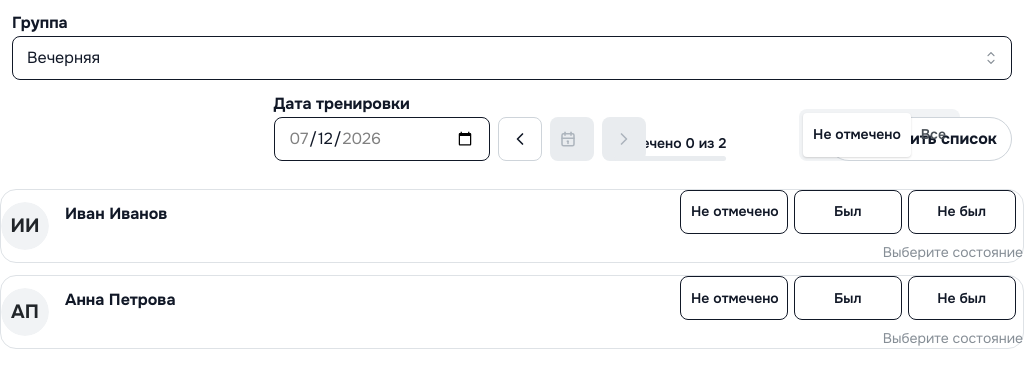
Test: AttendanceWorkspace › a failed row does not block saving another client
The image size is (1036, 390).
Click the radio button labelled "Был" in the row of "Иван Иванов": (848, 212) [794, 190, 902, 234]
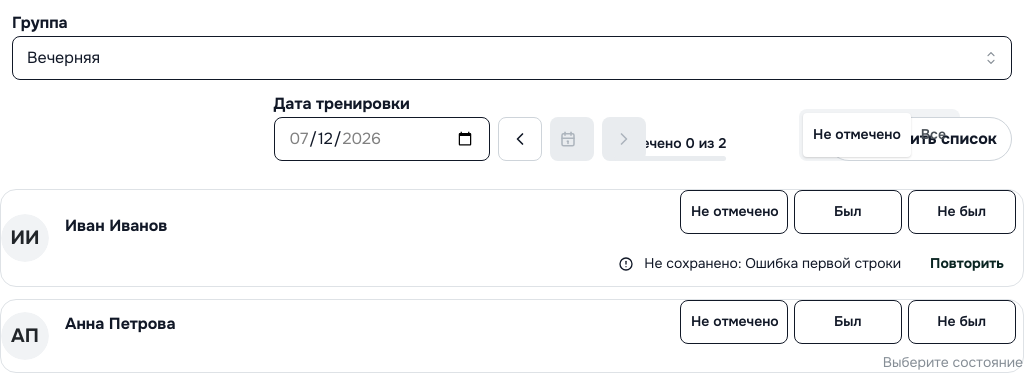
Now the text "Не сохранено: Ошибка первой строки" is shown, box [644, 253, 901, 274]
Click the radio button labelled "Был" in the row of "Анна Петрова": (848, 322) [794, 300, 902, 344]
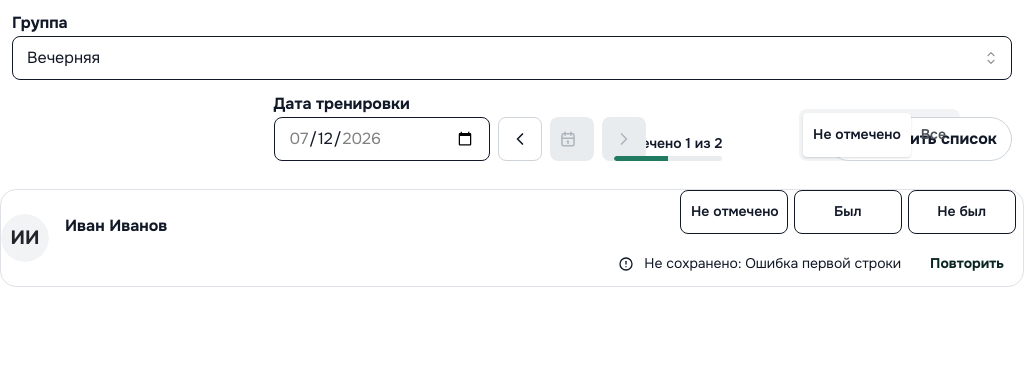
Now the text "Не сохранено: Ошибка первой строки" is shown, box [644, 253, 901, 274]
Now the element with test id "attendance-client-card-client-2" is gone
